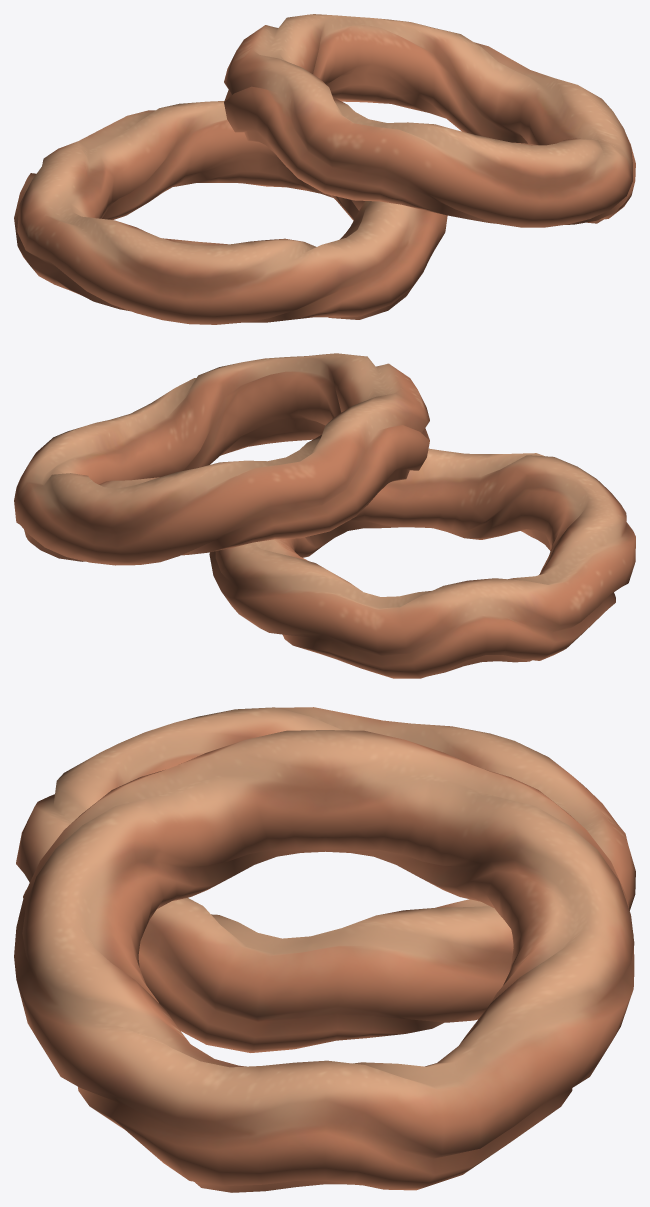
The model's file is sugar_ring_1.fbx.
3 views of the same model, one above another, from view 1: azimuth 30°, elevation 25°; view 2: azimuth 150°, elevation 25°; view 3: azimuth 270°, elevation 25° (orthographic). The views are drawn at different scales.
Visible parts, largest first — view 1: cake_rings; view 2: cake_rings; view 3: cake_rings.
Part boxes in pixels (bbox=[...]): cake_rings: bbox=[14, 14, 635, 324]; cake_rings: bbox=[14, 353, 635, 678]; cake_rings: bbox=[14, 707, 635, 1192].
Bounding box in the file's own units: 22.93 × 6.83 × 15.
